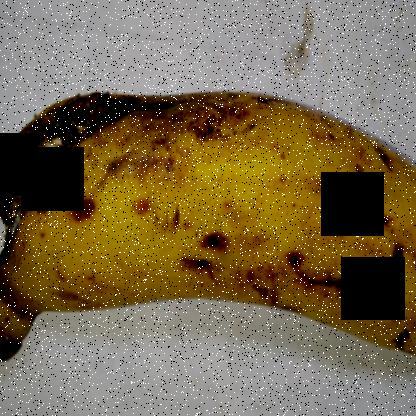ripe: (1, 75, 415, 367)
rotten: (1, 58, 158, 269)
